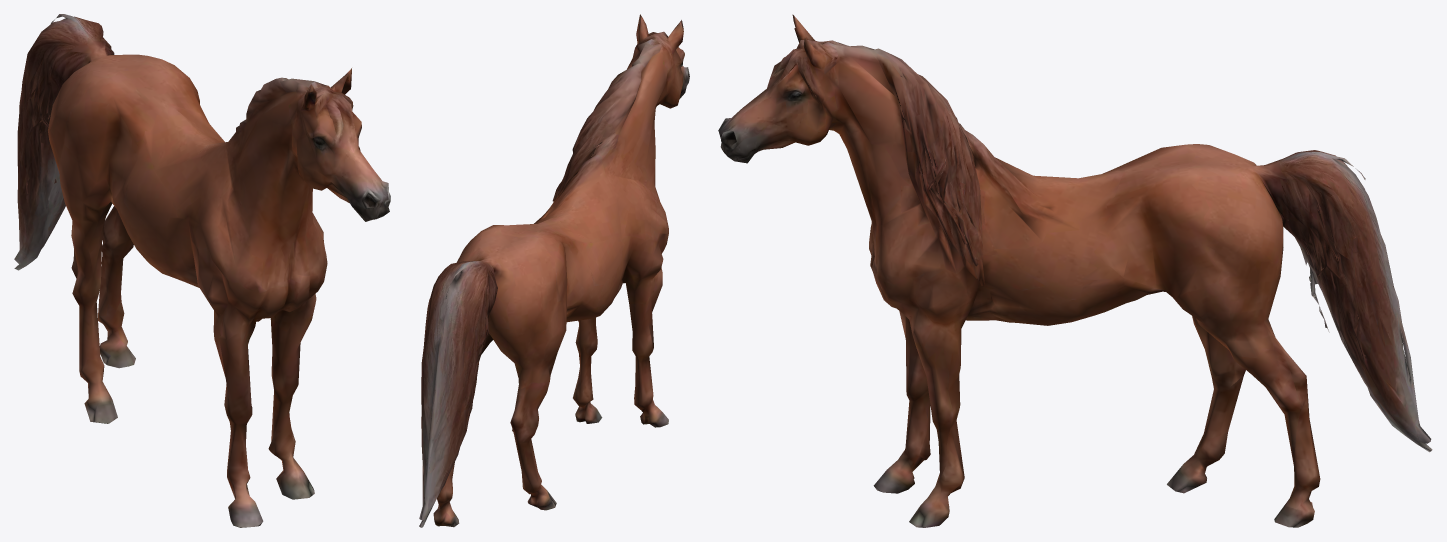
Rendered from animal_horse_brown.glb.
3 renders of one model, left to right at view 1: azimuth 30°, elevation 25°; view 2: azimuth 150°, elevation 25°; view 3: azimuth 270°, elevation 25°, orthographic. The views are drawn at different scales.
Visible parts, largest first — view 1: tripo_node_9d40cb8a-c467-4695-8df4-1d39caf472ee; view 2: tripo_node_9d40cb8a-c467-4695-8df4-1d39caf472ee; view 3: tripo_node_9d40cb8a-c467-4695-8df4-1d39caf472ee.
Boxes of the visible parts, bbox=[...] form: tripo_node_9d40cb8a-c467-4695-8df4-1d39caf472ee: bbox=[14, 14, 390, 527]; tripo_node_9d40cb8a-c467-4695-8df4-1d39caf472ee: bbox=[419, 14, 689, 527]; tripo_node_9d40cb8a-c467-4695-8df4-1d39caf472ee: bbox=[718, 14, 1432, 527].
Size of the model in its own units: 0.2059 by 0.7276 by 0.9782.
Materials: 1 (1 with a texture image).
